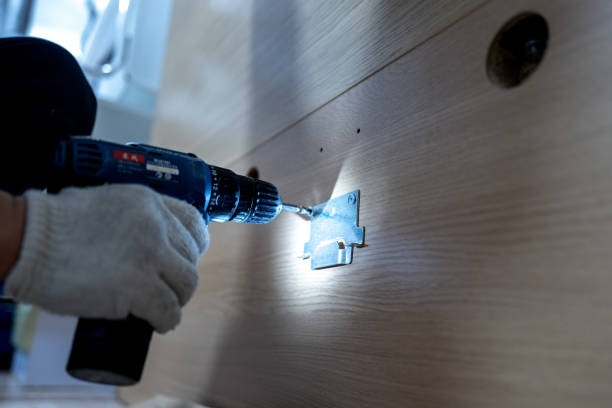driller: (51, 128, 310, 385)
